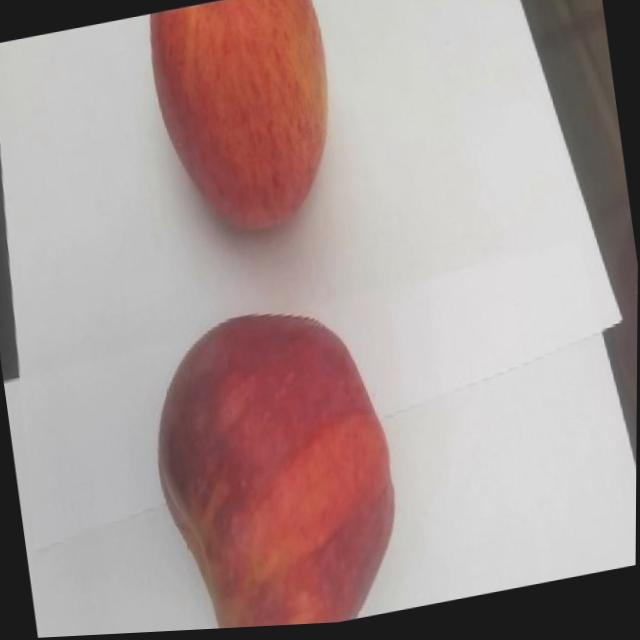Apple: (131, 295, 414, 634), (137, 0, 348, 252)
